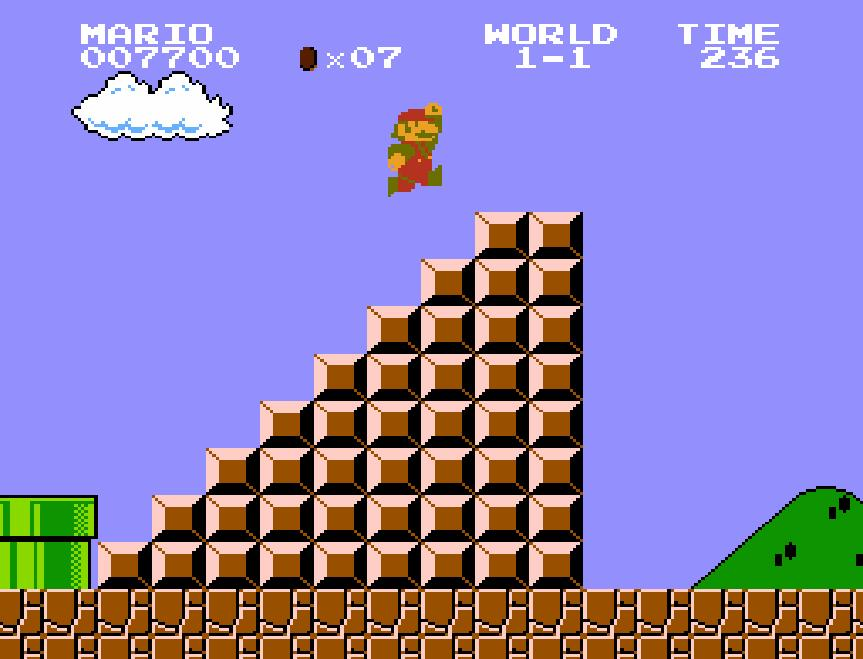big_mario: (386, 100, 444, 198)
